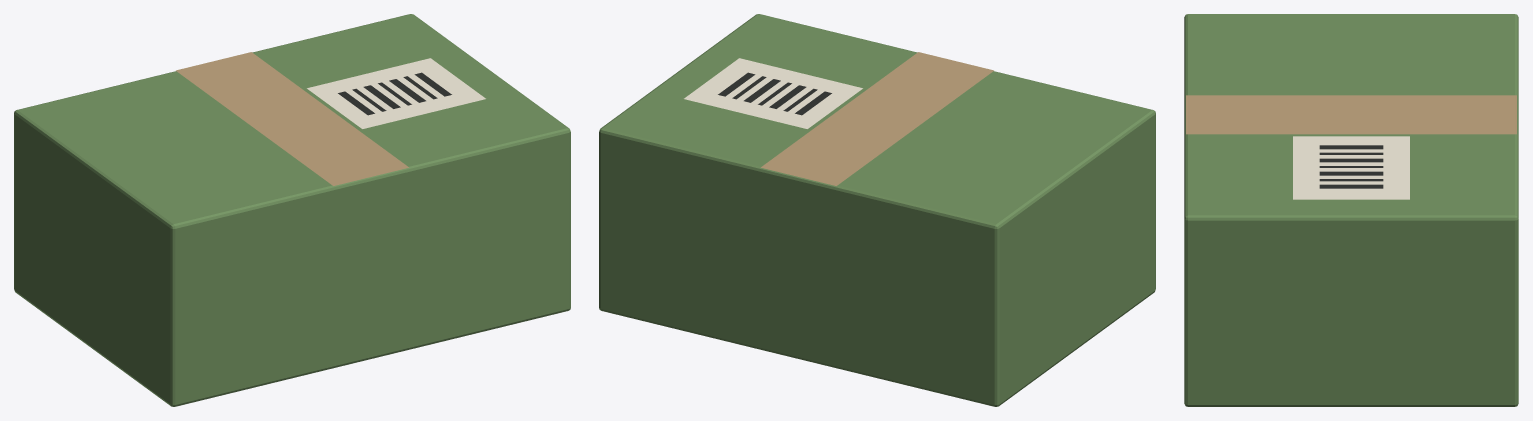
The picture shows the model from 3 angles, left to right: view 1: azimuth 30°, elevation 25°; view 2: azimuth 150°, elevation 25°; view 3: azimuth 270°, elevation 25°; orthographic projection. The views are drawn at different scales.
Visible parts, largest first — view 1: parcel_body, packing_tape, shipping_label; view 2: parcel_body, packing_tape, shipping_label; view 3: parcel_body, packing_tape, shipping_label, label_bar_0, label_bar_4, label_bar_6, label_bar_2.
Part boxes in pixels (left/top/right/bottom): parcel_body: left=14, top=14, right=570, bottom=406; packing_tape: left=176, top=52, right=408, bottom=185; shipping_label: left=307, top=58, right=485, bottom=128; parcel_body: left=599, top=14, right=1155, bottom=406; packing_tape: left=761, top=52, right=993, bottom=185; shipping_label: left=684, top=58, right=862, bottom=128; parcel_body: left=1184, top=14, right=1518, bottom=406; packing_tape: left=1186, top=95, right=1516, bottom=134; shipping_label: left=1293, top=136, right=1409, bottom=199; label_bar_0: left=1319, top=145, right=1383, bottom=149; label_bar_4: left=1319, top=171, right=1383, bottom=175; label_bar_6: left=1319, top=184, right=1383, bottom=188; label_bar_2: left=1319, top=158, right=1383, bottom=162.
Size of the model in its own units: 0.055 by 0.024 by 0.038.
